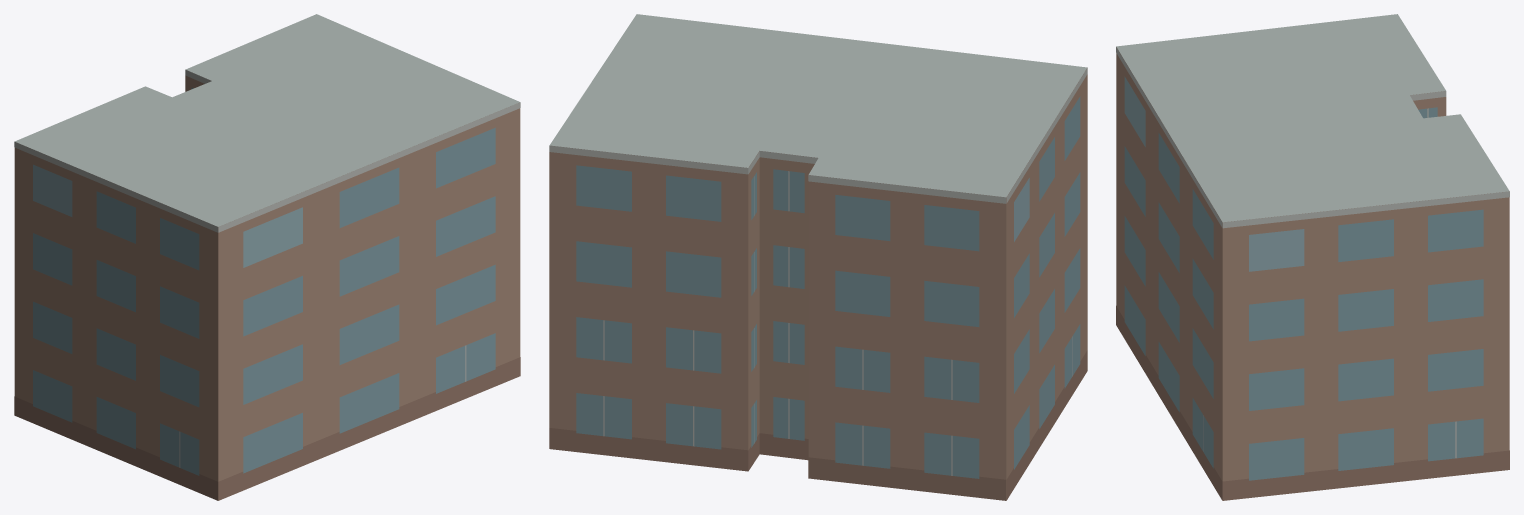
File: survey-upis-32981184.glb
3 views of the same model, side by side, from view 1: azimuth 30°, elevation 25°; view 2: azimuth 150°, elevation 25°; view 3: azimuth 270°, elevation 25° (orthographic). The views are drawn at different scales.
Parts seen in each view (by area): view 1: survey-upis-32981184.tmp; view 2: survey-upis-32981184.tmp; view 3: survey-upis-32981184.tmp.
Part boxes in pixels (<box>): survey-upis-32981184.tmp: <box>14,14,520,500</box>; survey-upis-32981184.tmp: <box>549,14,1087,500</box>; survey-upis-32981184.tmp: <box>1116,14,1509,500</box>.
Size of the model in its own units: 18.23 by 11.36 by 14.56.
